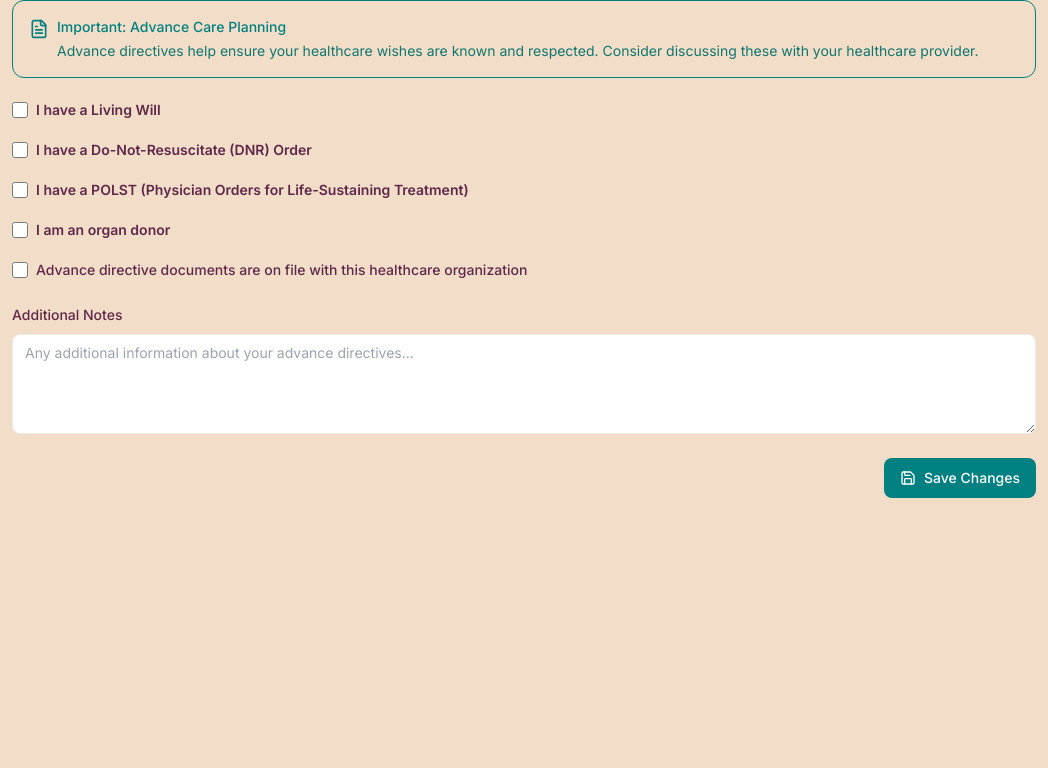
Test case: AdvanceDirectivesForm › DNR Order › should show date field when DNR is checked
This screenshot has width=1048, height=768.
Click the checkbox labelled "I have a Do-Not-Resuscitate (DNR) Order". click: (20,150)
box: [12, 142, 28, 158]
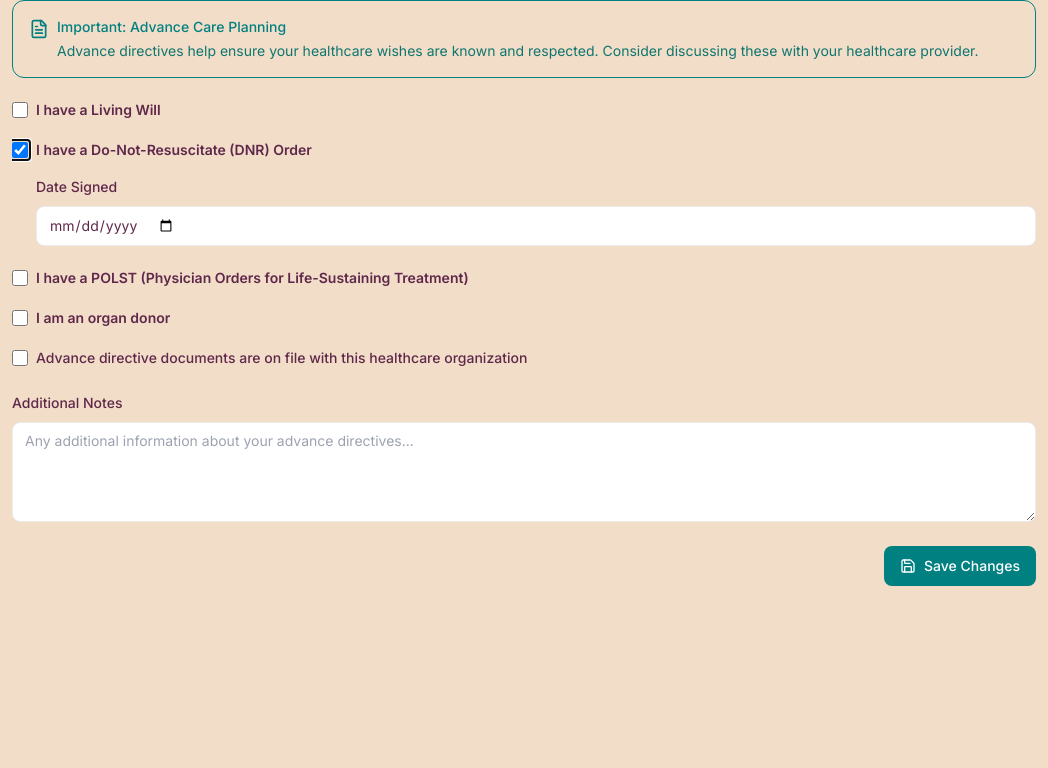
Check: the date field labelled "Date Signed" is shown, box [36, 206, 1036, 246]
